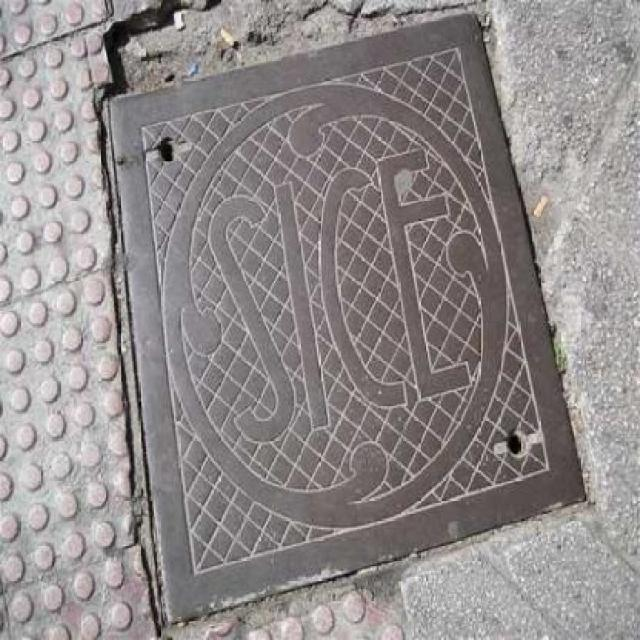Manhole: (94, 4, 596, 626)
